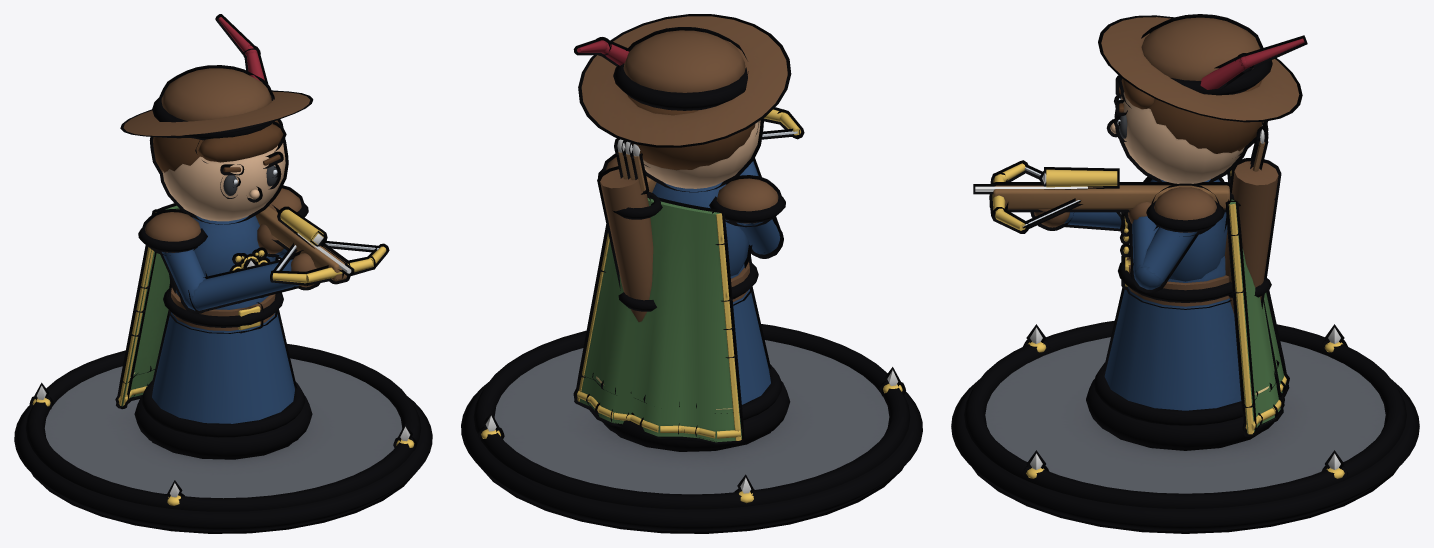
The model's file is marksman_s4.fbx.
3 views of the same model, side by side, from view 1: azimuth 30°, elevation 25°; view 2: azimuth 150°, elevation 25°; view 3: azimuth 270°, elevation 25° (orthographic). The views are drawn at different scales.
Parts seen in each view (by area): view 1: marksman_s4; view 2: marksman_s4; view 3: marksman_s4.
Boxes of the visible parts, x1,y1,x2,y2 form: marksman_s4: (14,14,432,533); marksman_s4: (461,14,922,533); marksman_s4: (951,14,1419,533).
Size of the model in its own units: 1.58 by 1.61 by 1.58.
Materials: 2 (1 with a texture image).
